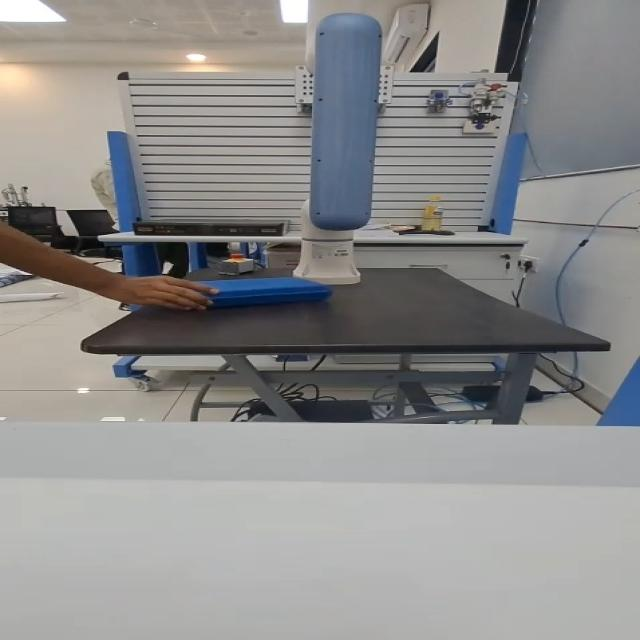top-surface: (162, 278, 306, 292)
